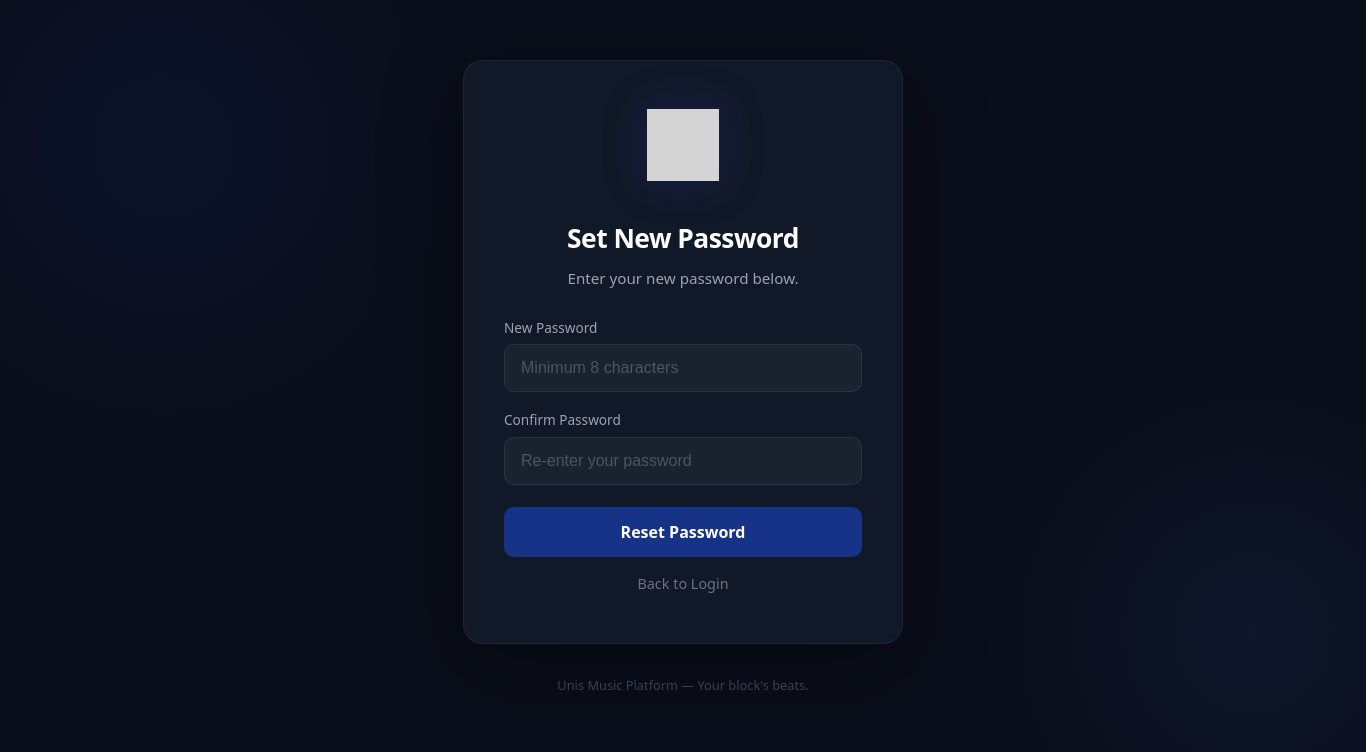
Test: client-side validation › blocks submission and shows error when password is under 8 chars
Type "short" into the password field with placeholder "Minimum 8 characters" at (683, 368), box [504,344,862,392]
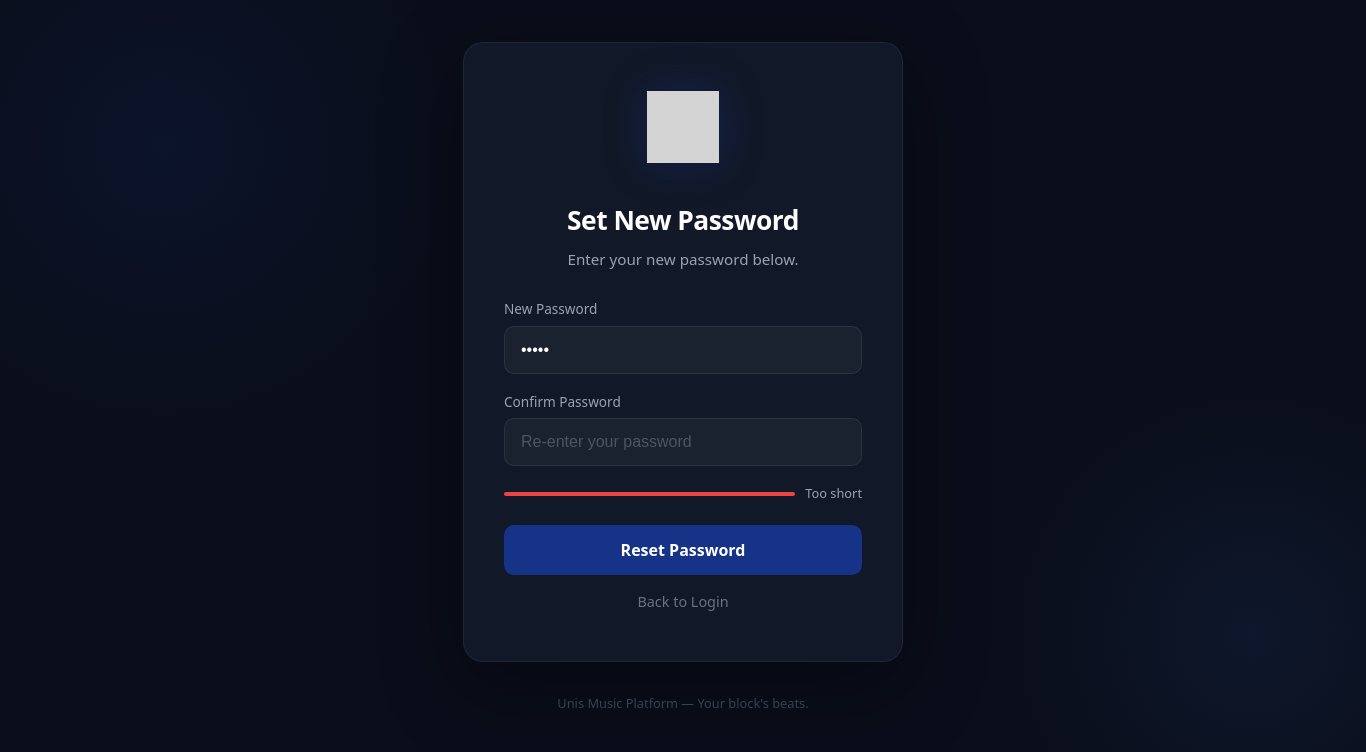
Type "short" into the password field with placeholder "Re-enter your password" at (683, 442), box [504,418,862,466]
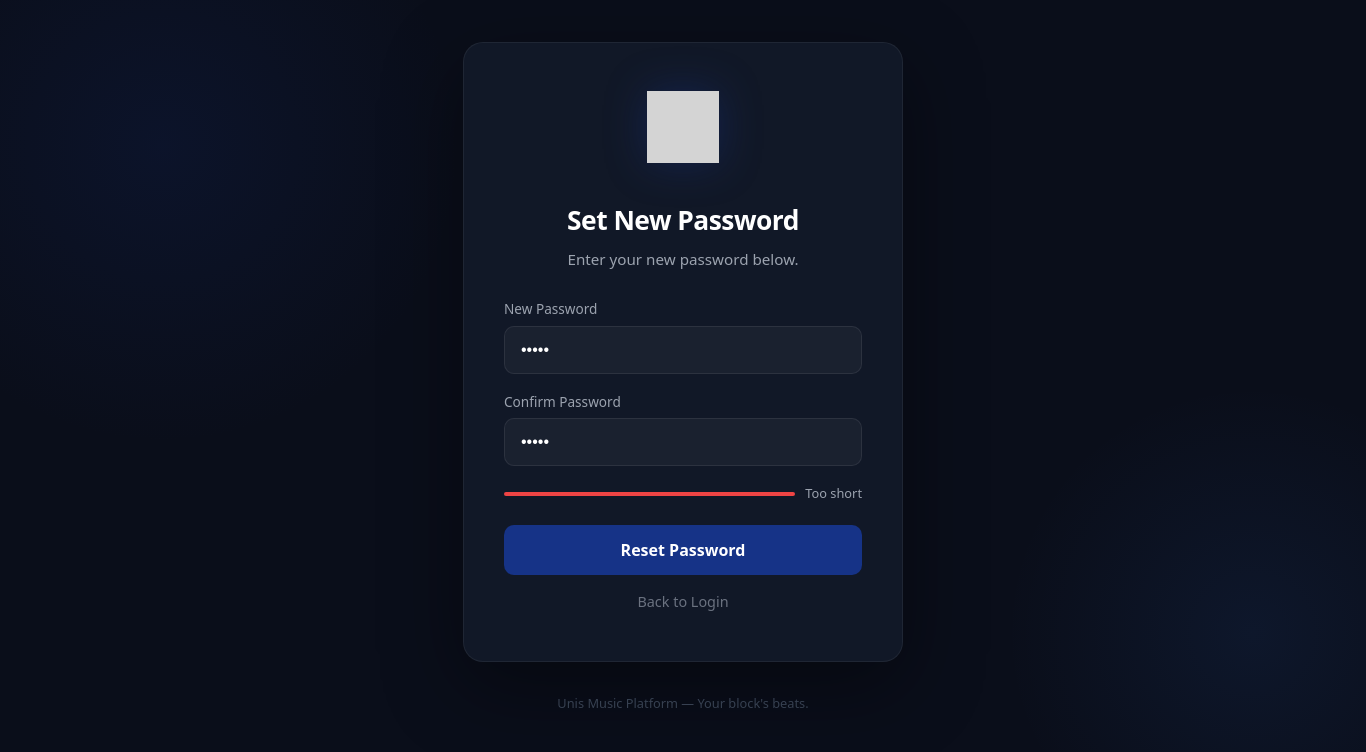
Click the button "Reset Password" at (683, 550), box [504,525,862,575]
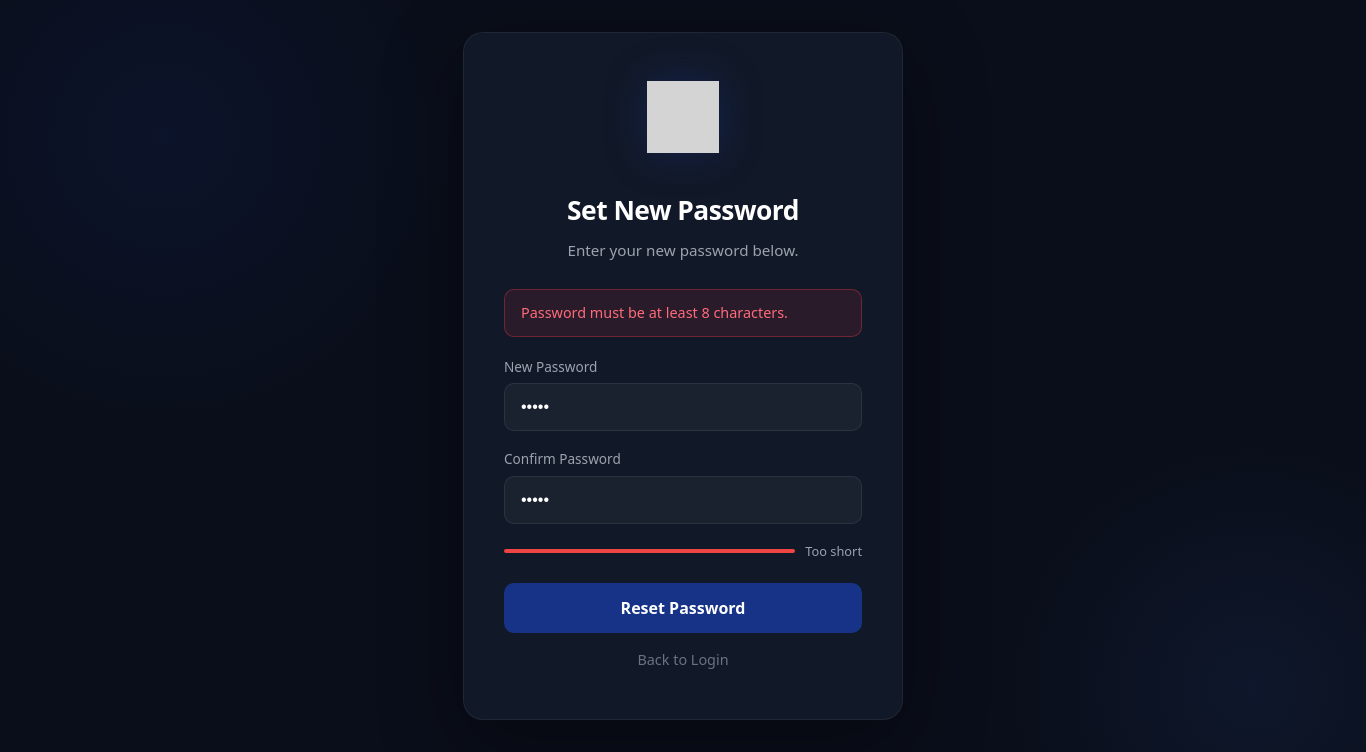
expect the text "Password must be at least 8 characters." is shown: met, box [504,289,862,337]
